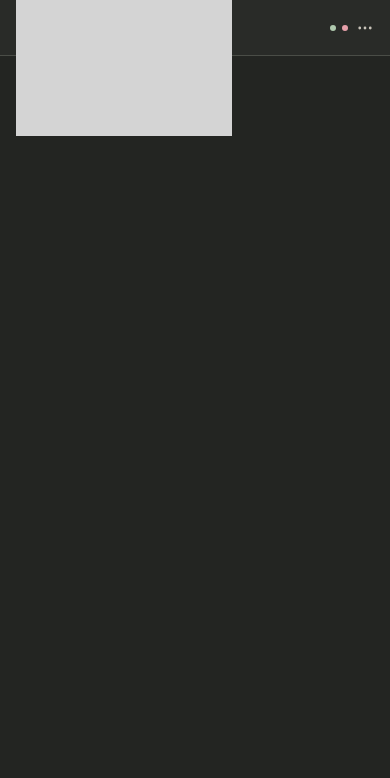
Test: Layout navigation drawer › opens and closes the drawer
The width and height of the screenshot is (390, 778).
Click the button named "Open navigation": [352, 28] box [330,6,374,50]
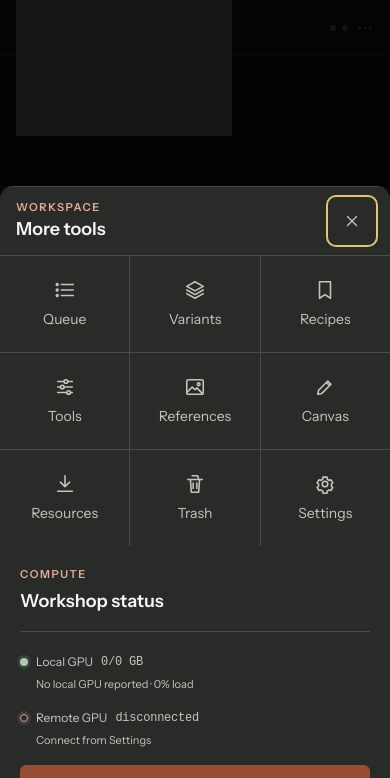
# the scrim closes it again
Click the button named "Close navigation": [352, 221] box [330,199,374,243]
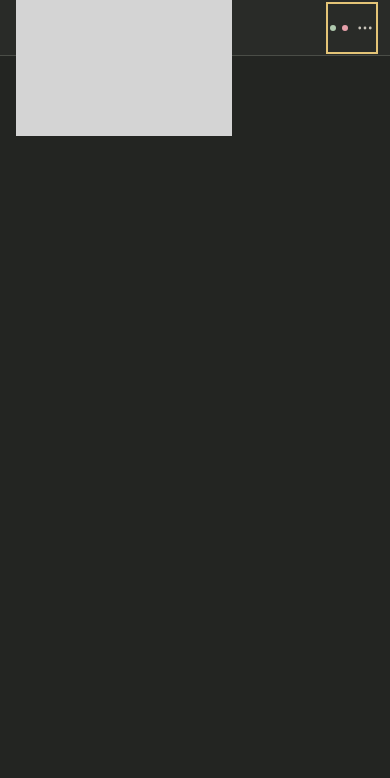
Check: the button named "Open navigation" is collapsed, box [330,6,374,50]
